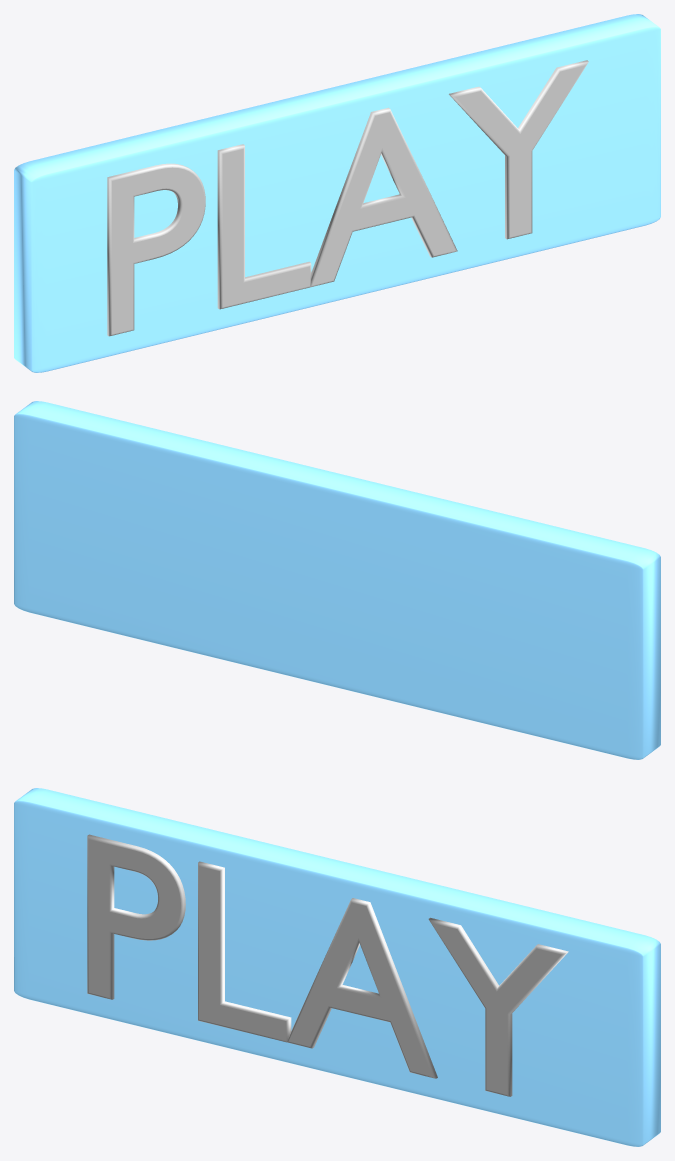
Rendered from Button_Play.fbx.
3 views of the same model, one above another, from view 1: azimuth 30°, elevation 25°; view 2: azimuth 150°, elevation 25°; view 3: azimuth 330°, elevation 25° (orthographic).
Visible parts, largest first — view 1: Cube, Text.001; view 2: Cube; view 3: Cube, Text.001.
Part boxes in pixels (x1,y1,x2,y2): Cube: (14,14,660,372); Text.001: (107,60,588,336); Cube: (14,401,660,759); Cube: (14,788,660,1146); Text.001: (87,834,568,1096).
Size of the model in its own units: 4 by 1.2 by 0.2295.
